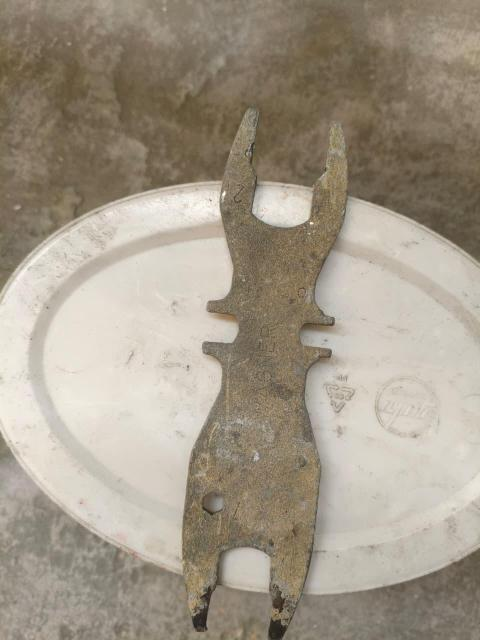Metal: (183, 98, 348, 640)
